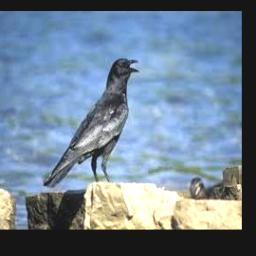Crow: (43, 58, 138, 189)
